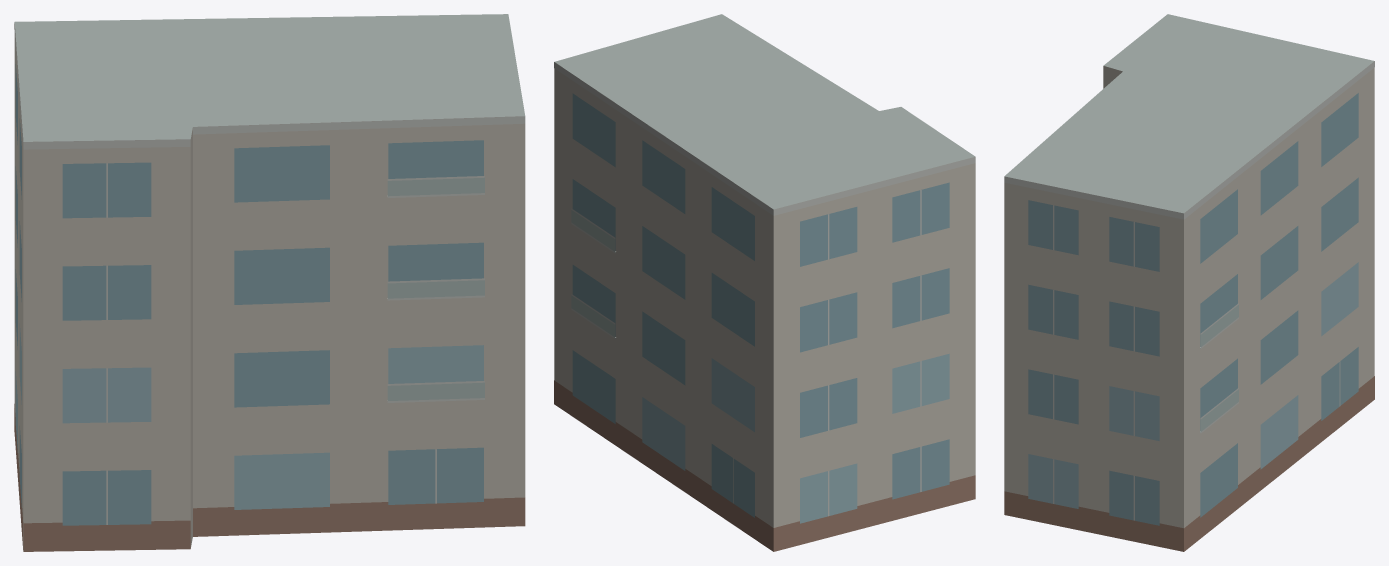
File: survey-upis-32781801.glb
The picture shows the model from 3 angles, left to right: view 1: azimuth 30°, elevation 25°; view 2: azimuth 150°, elevation 25°; view 3: azimuth 270°, elevation 25°; orthographic projection. The views are drawn at different scales.
Visible parts, largest first — view 1: survey-upis-32781801.tmp; view 2: survey-upis-32781801.tmp; view 3: survey-upis-32781801.tmp.
Boxes of the visible parts, <box> form: survey-upis-32781801.tmp: <box>14,14,525,551</box>; survey-upis-32781801.tmp: <box>554,14,975,551</box>; survey-upis-32781801.tmp: <box>1004,14,1374,551</box>.
Bounding box in the file's own units: 16.56 × 13.1 × 13.01.
